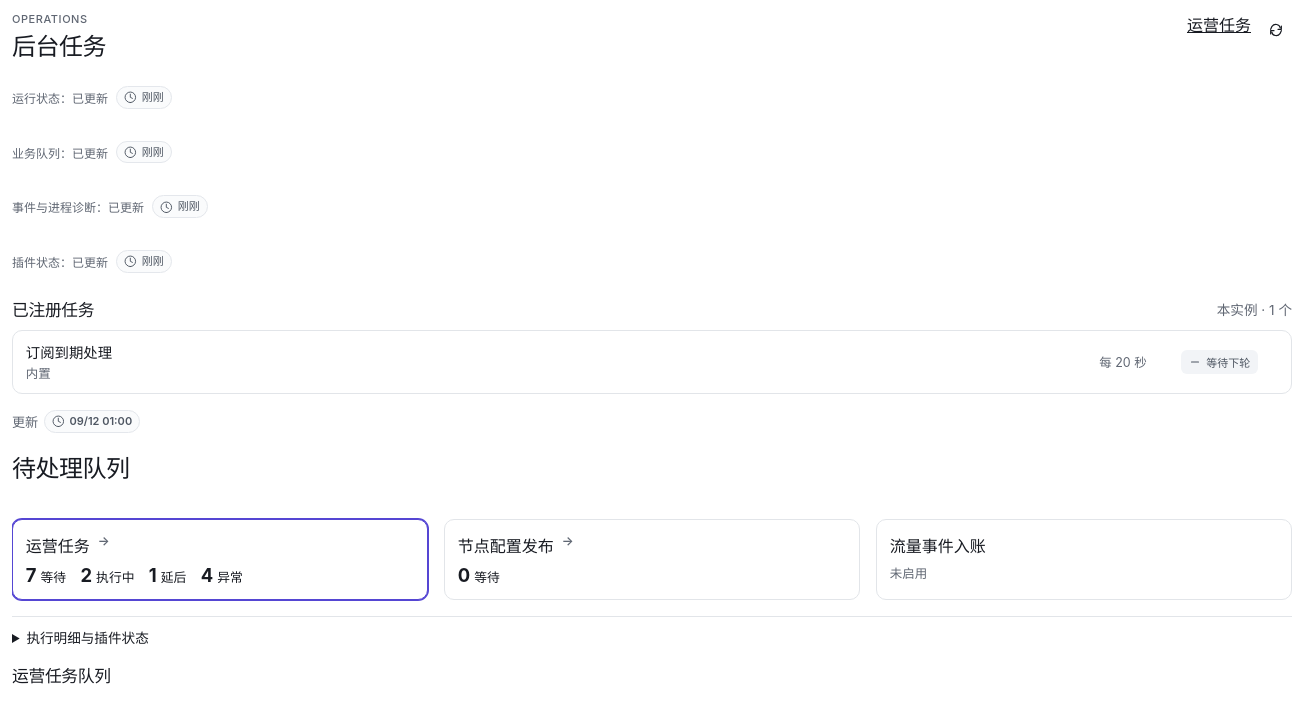
Test: does not present an unavailable registry as zero registered tasks
Click the button named "刷新后台任务" at (1276,30), box [1260, 12, 1292, 48]
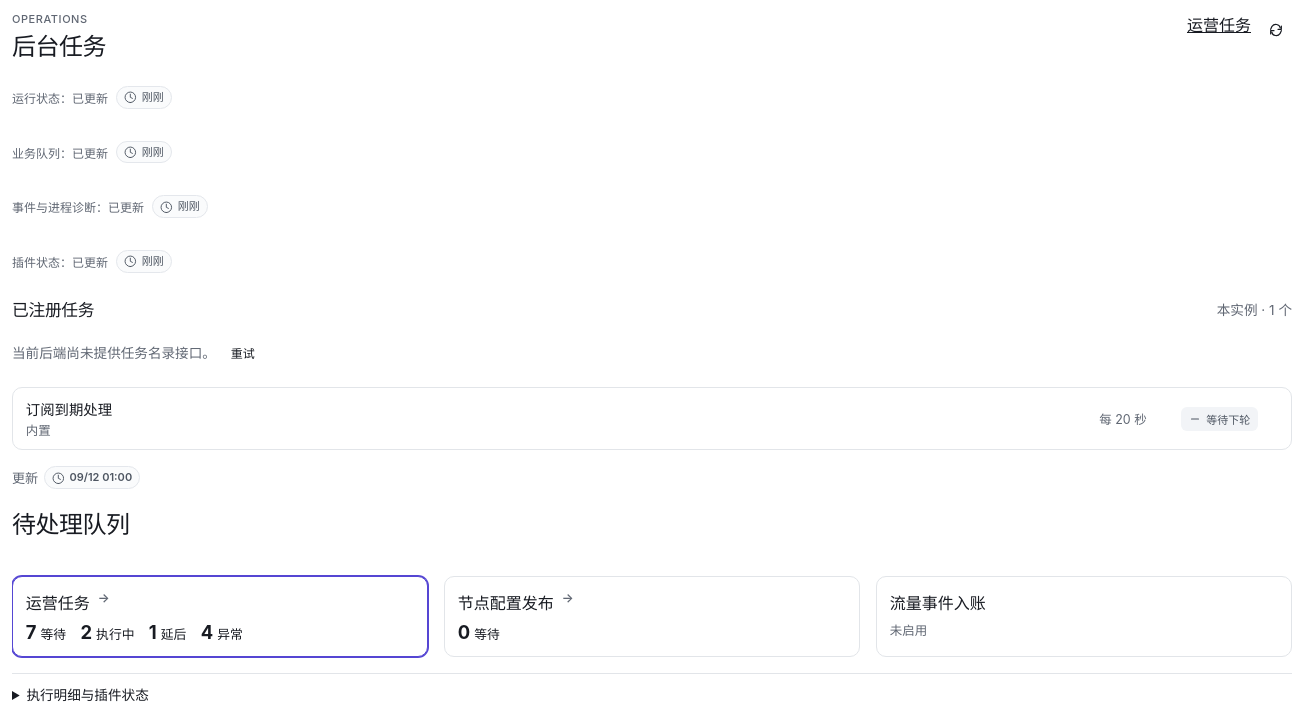
Expected: the element named "已注册任务" shows "当前后端尚未提供任务名录接口", [12, 345, 220, 361]
